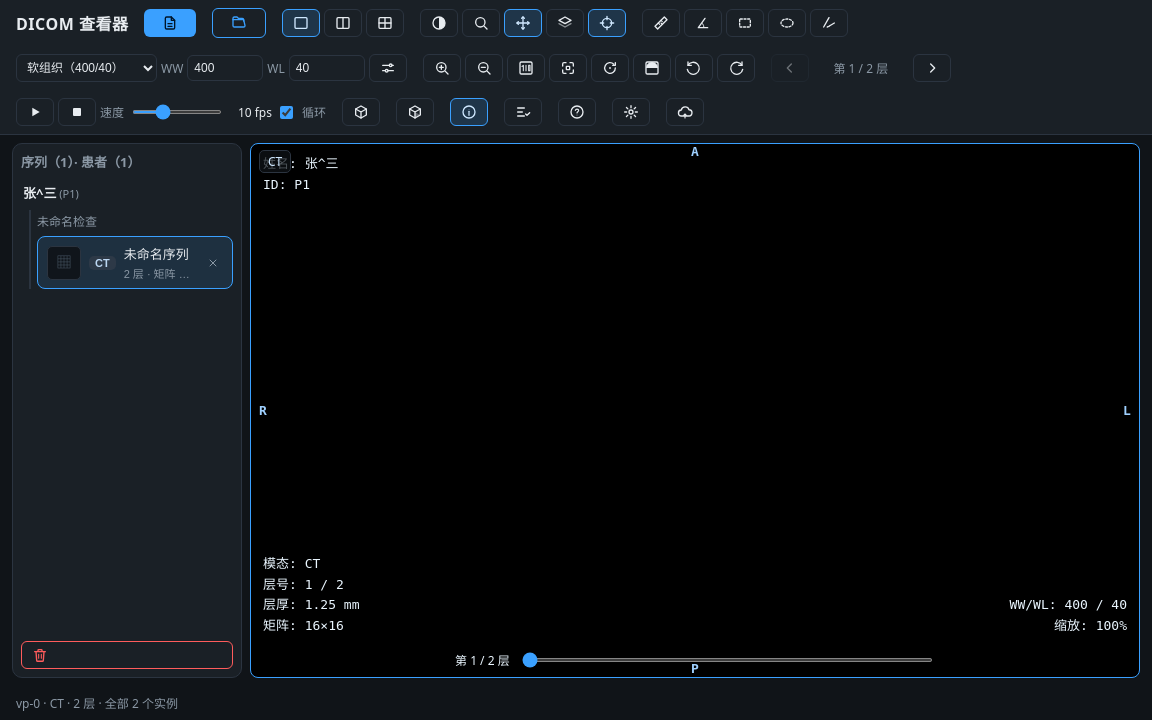
App × Cine/反色/旋转（FR-3.8/3.9/3.10） › 旋转：[ / ] 快捷键与工具栏按 90° 步进，方向标记随视图更新（FR-3.10/FR-4.10）
Expected: the text with class "orient-top" reads "A", [691,144,699,159]
Press [
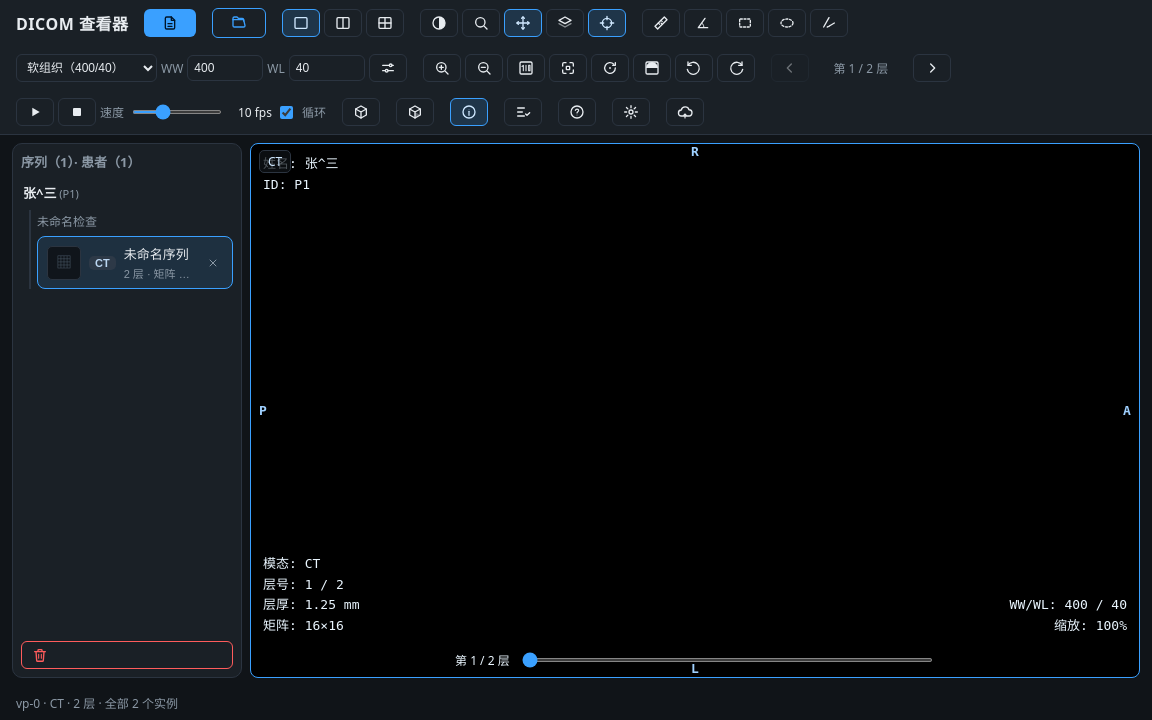
Result: the text with class "orient-top" reads "R" at [691,144,699,159]
Click the button named "顺时针旋转 90°（]）" at (736, 68), box [717,54,755,82]
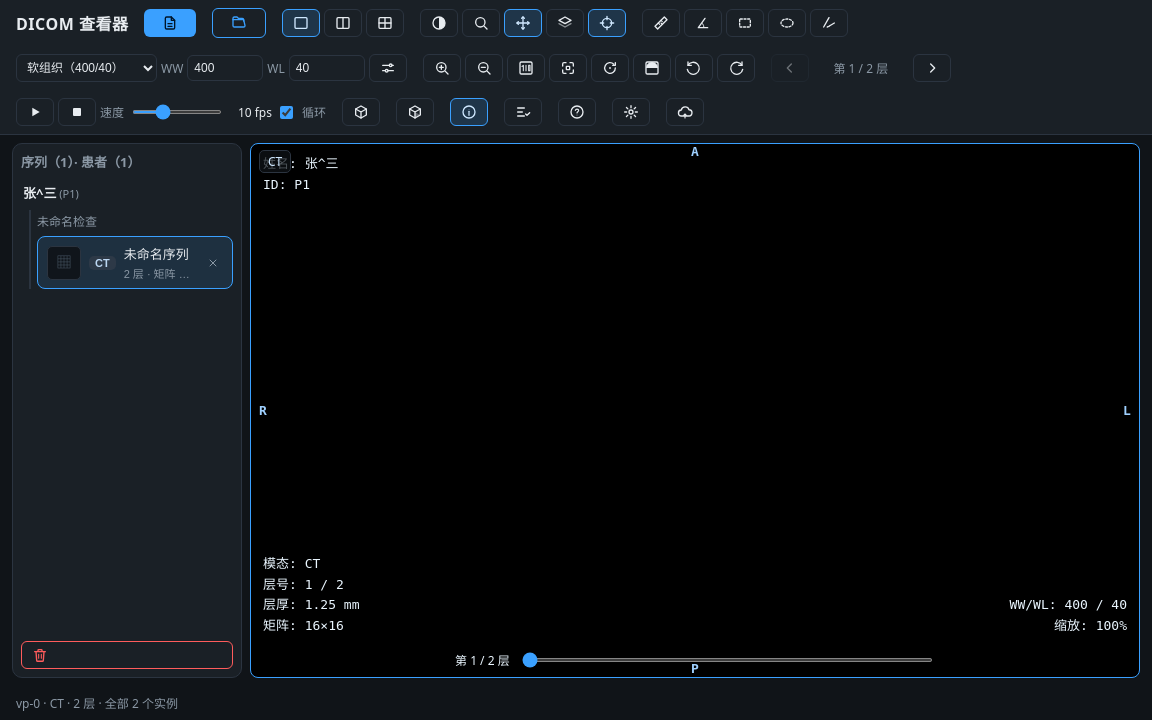
Result: the text with class "orient-top" reads "A" at [691,144,699,159]
